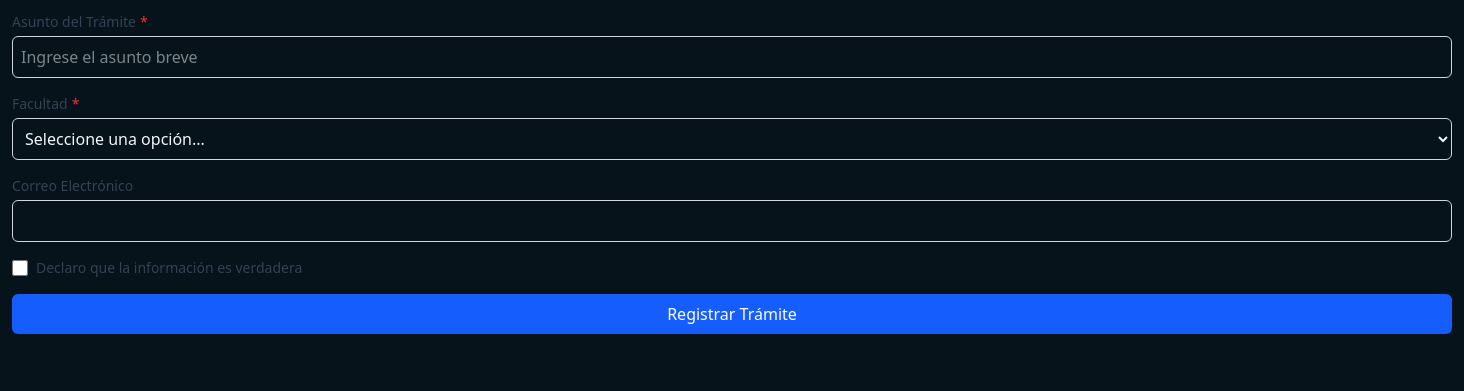
DynamicSchemaForm Component › 5. Valida la longitud mínima (minLength) en campos de texto
The image size is (1464, 391).
Type "abc" into the field with placeholder "Ingrese el asunto breve". click: (732, 57)
box: [12,36,1452,78]
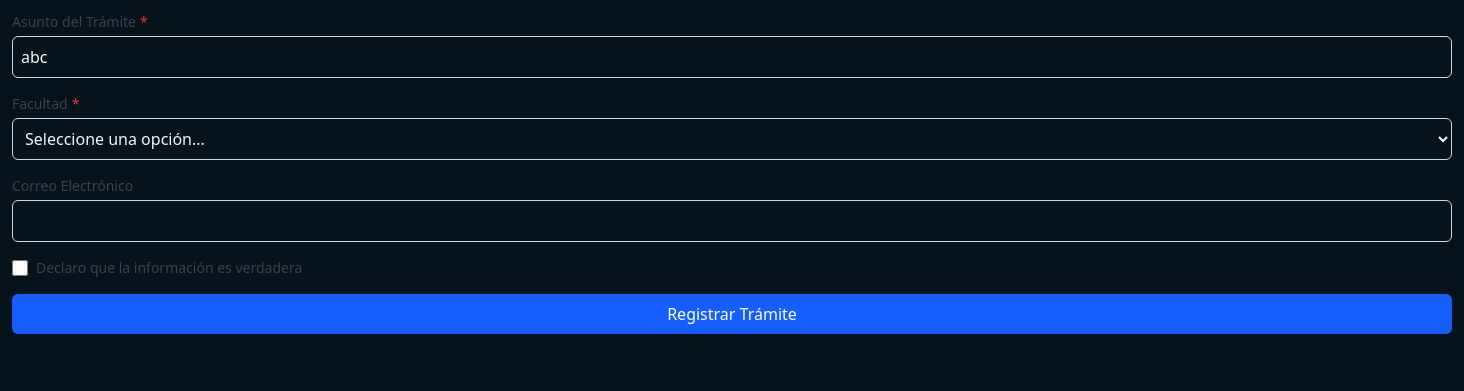
Click the button "Registrar Trámite". click: (732, 314)
box: [12,294,1452,334]
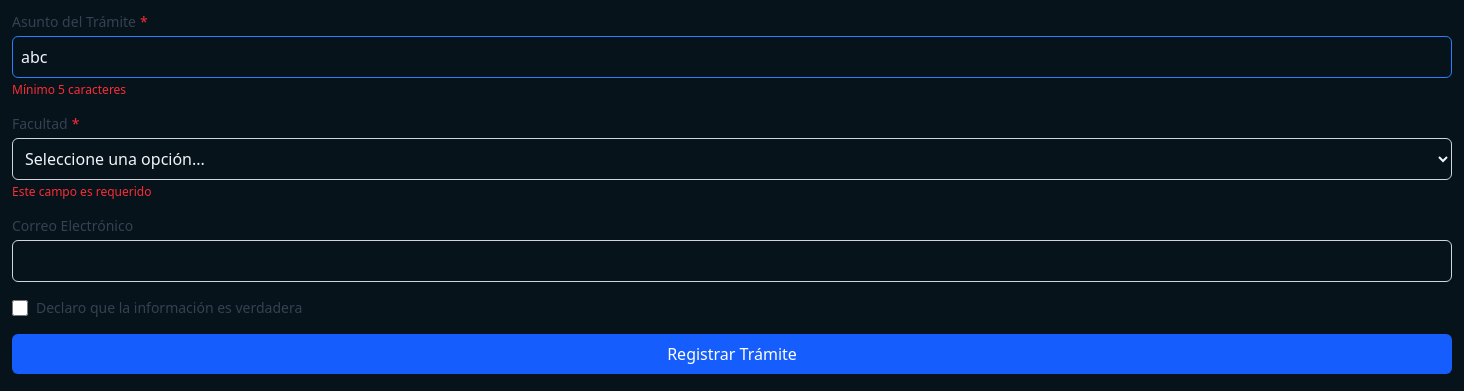
Check: the text "Mínimo 5 caracteres" is shown, box [12,81,126,98]
